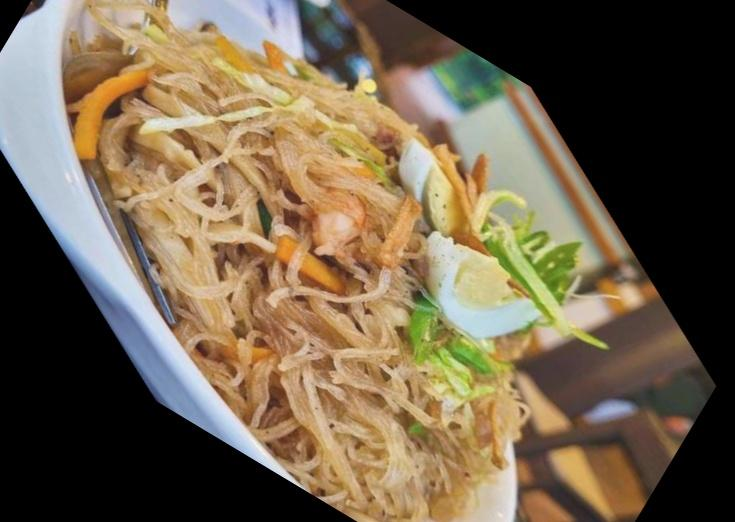pancit bihon: (76, 30, 526, 521)
